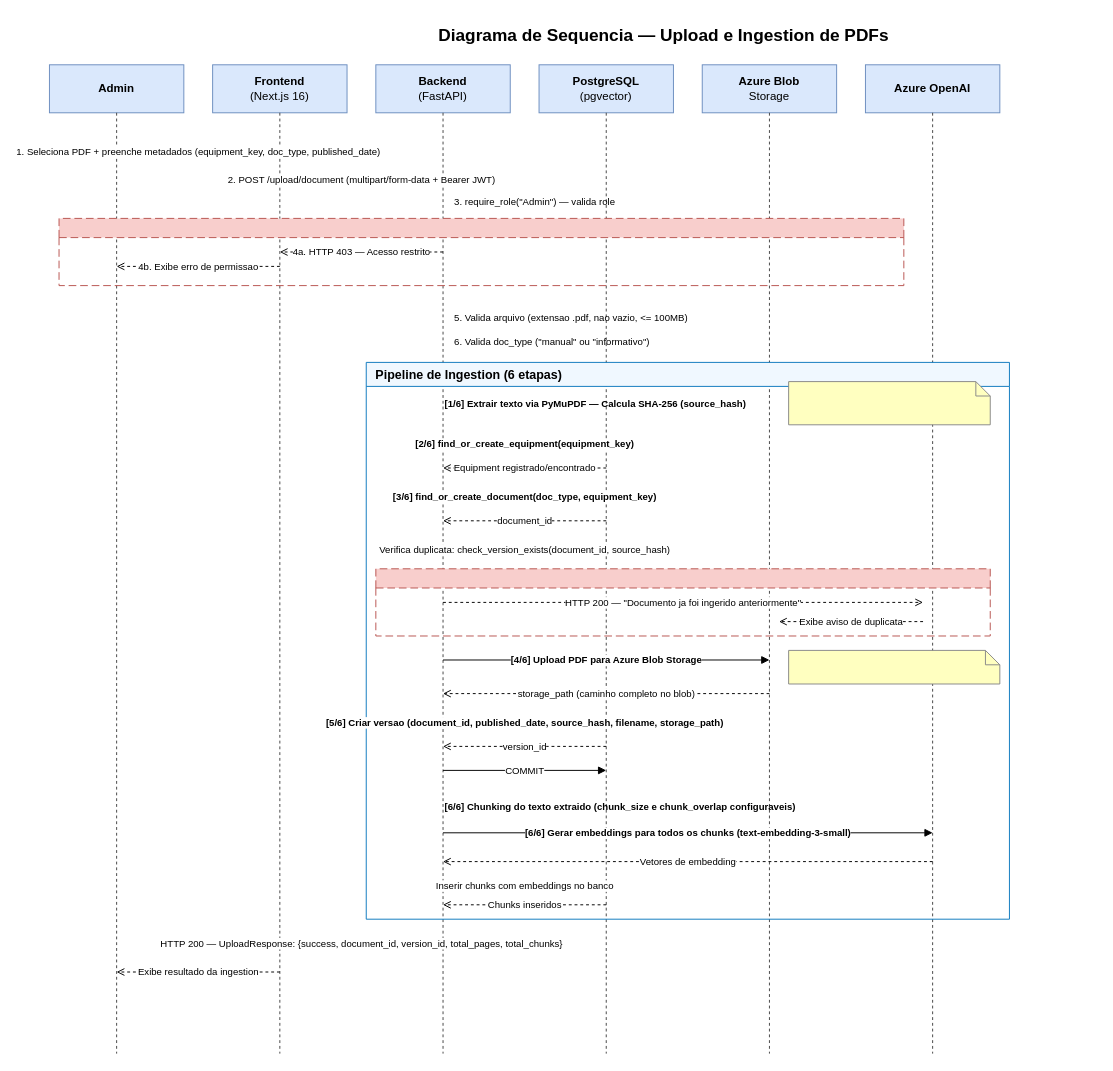
The diagram is 1113 pixels wide and 1071 high, and some of its shapes have lost their labels. Each missing label, with the centre of its shape:
"alt [Duplicata detectada — mesmo SHA-256]" goes at pixel 682 602.
"alt [Role nao e Admin]" goes at pixel 481 251.
"Path: {equipment_key}/{published_date}/{filename}" goes at pixel 894 666.
"Se PDF nao tem texto extraivel, retorna erro (OCR previsto Fase 3)" goes at pixel 889 403.
